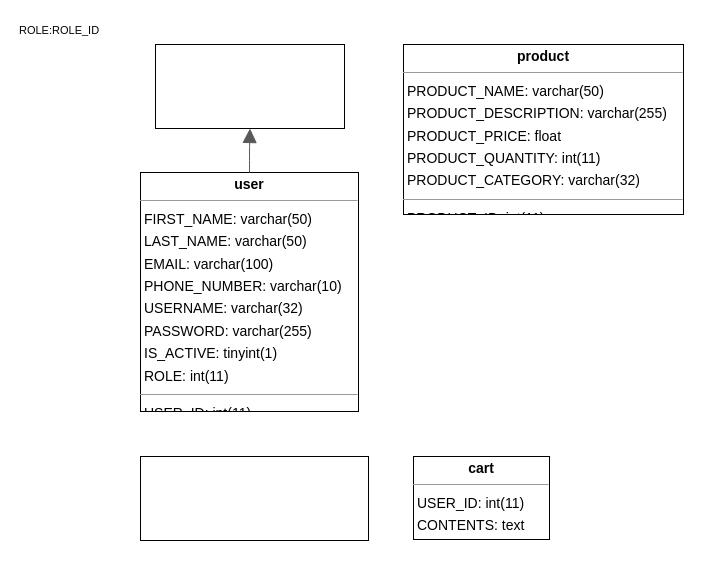
This 701x565 diagram has some shape labels left out. The shapes that lost their labels are listed below. From the top down, each one's box as (x1, y1, x2, y2) in pixels, then its label:
(154, 44, 344, 128): role ROLE_NAME: varchar(50) ROLE_ID: int(11)
(140, 456, 368, 540): category CATEGORY_NAME: varchar(32) CATEGORY_ID: int(11)
